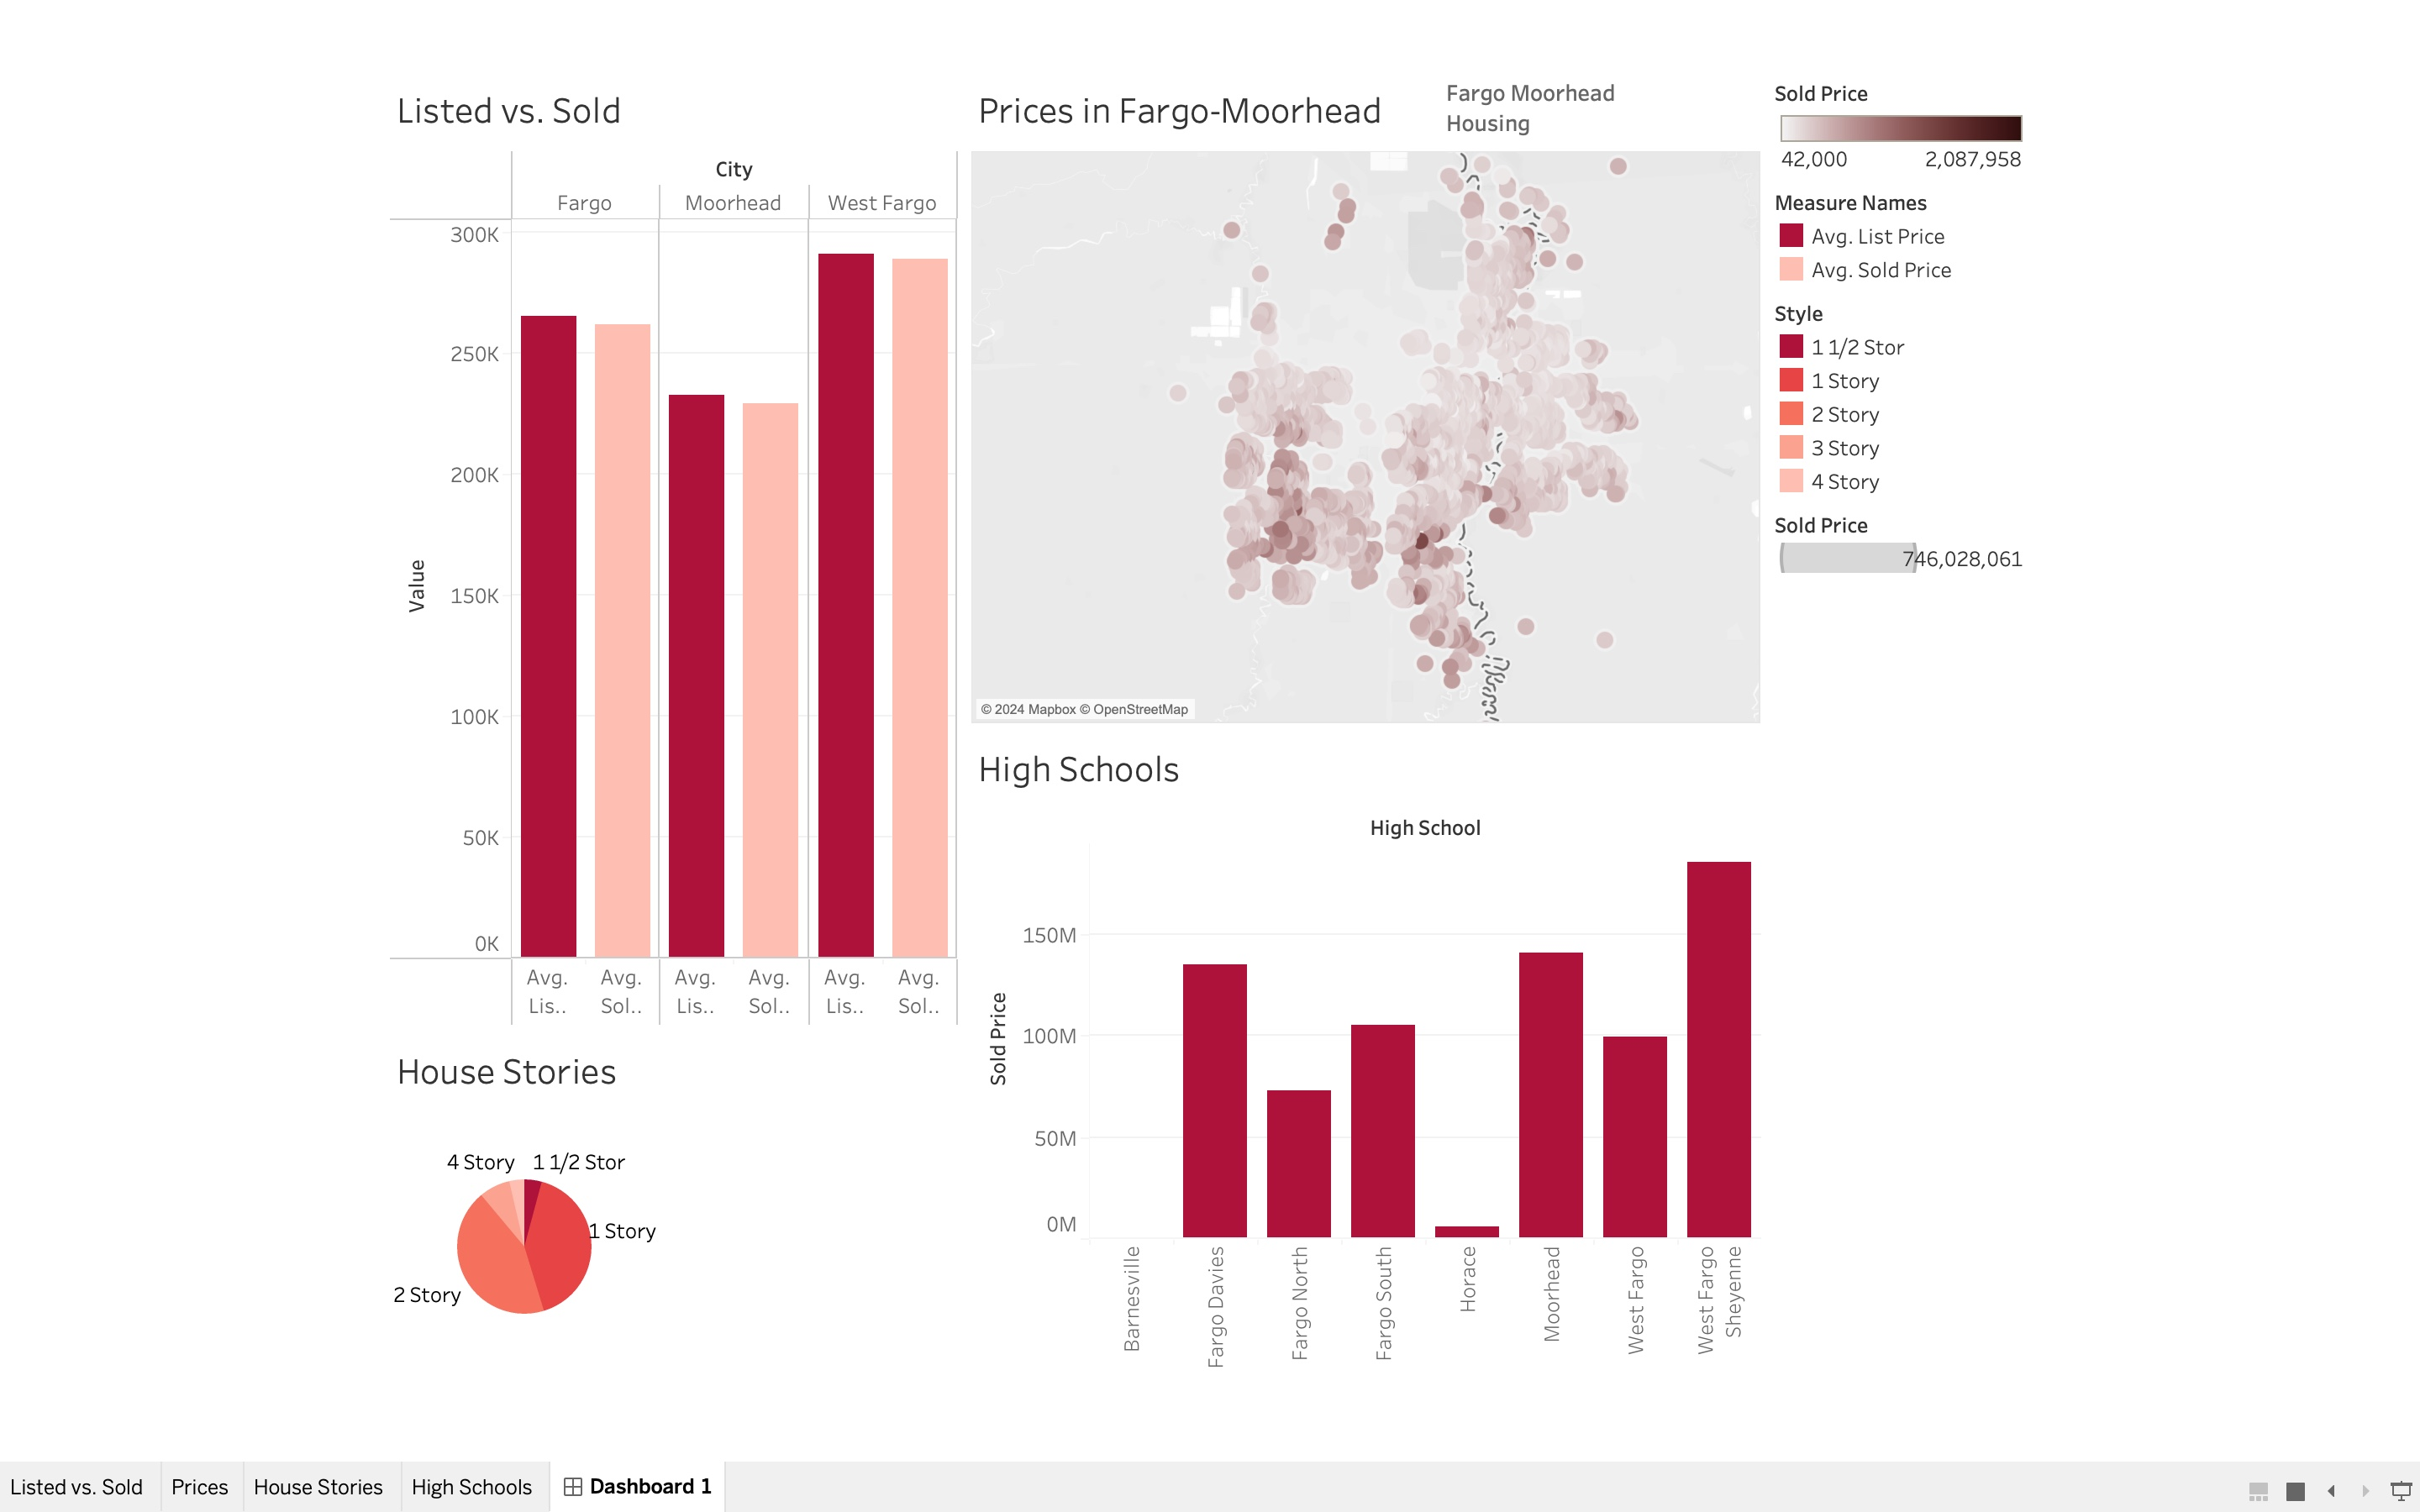

What the dashboard file says about the page in this screenshot:
{"tool":"tableau","page":{"name":"Dashboard 1","canvas":[1000,800],"ordinal":0},"visuals":[{"type":"worksheet","title":"Listed vs. Sold","mark":"Automatic","cols":["City"],"box":[8,8,346,572]},{"type":"worksheet","title":"Prices","mark":"Automatic","rows":["Geo Lat"],"cols":["Geo Lon"],"box":[354,8,478,392]},{"type":"legend","title":"Prices","param":"[federated.0zv3lzo1w0rp9e15jcqrp1wunt0h].[sum:Sold Price:qk]","box":[832,8,160,65]},{"type":"legend","title":"Listed vs. Sold","param":"[federated.0zv3lzo1w0rp9e15jcqrp1wunt0h].[:Measure Names]","box":[832,73,160,66]},{"type":"legend","title":"House Stories","param":"[federated.0zv3lzo1w0rp9e15jcqrp1wunt0h].[none:Style:nk]","box":[832,139,160,126]},{"type":"legend","title":"House Stories","param":"[federated.0zv3lzo1w0rp9e15jcqrp1wunt0h].[sum:Sold Price:qk]","box":[832,265,160,46]},{"type":"worksheet","title":"High Schools","mark":"Automatic","rows":["Sold Price"],"cols":["High School"],"box":[354,400,478,392]},{"type":"worksheet","title":"House Stories","mark":"Pie","box":[8,580,346,212]}]}

Visuals, with their boxes on the page's 1000x800 design canvas (x1, y1, x2, y2). These are canvas units, not pixel positions in the 2420x1512 screenshot, which may show the page scaled, cropped or inside an application window:
"Listed vs. Sold" worksheet: rect(8, 8, 354, 580)
"Prices" worksheet: rect(354, 8, 832, 400)
"Prices" legend: rect(832, 8, 992, 73)
"Listed vs. Sold" legend: rect(832, 73, 992, 139)
"House Stories" legend: rect(832, 139, 992, 265)
"House Stories" legend: rect(832, 265, 992, 311)
"High Schools" worksheet: rect(354, 400, 832, 792)
"House Stories" worksheet (Pie marks): rect(8, 580, 354, 792)
